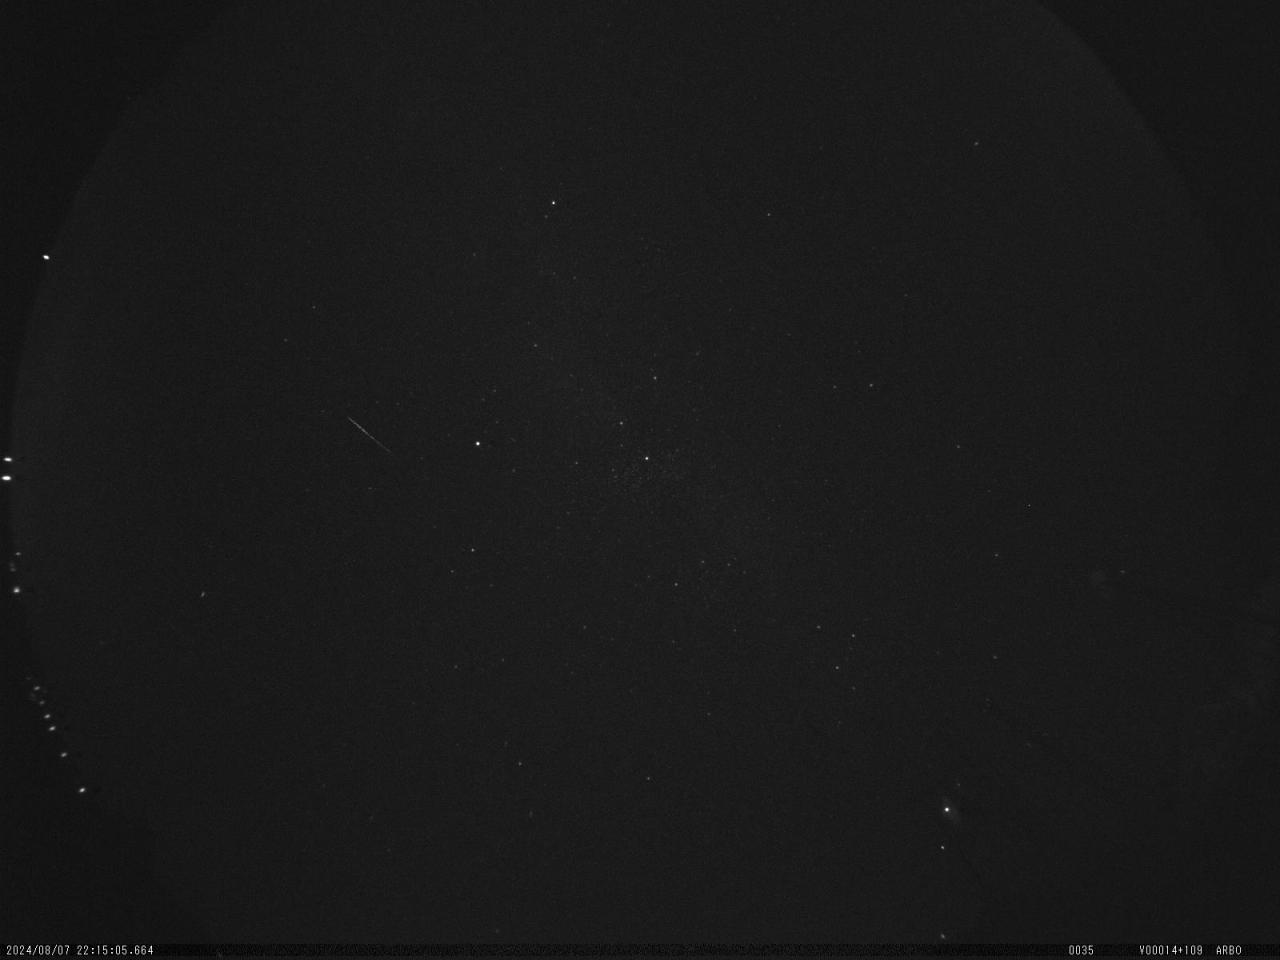Meteor: (340, 408, 404, 468)
